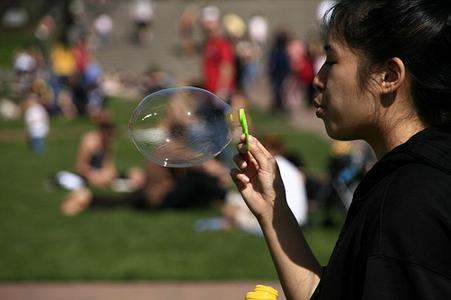person: (220, 5, 451, 298)
